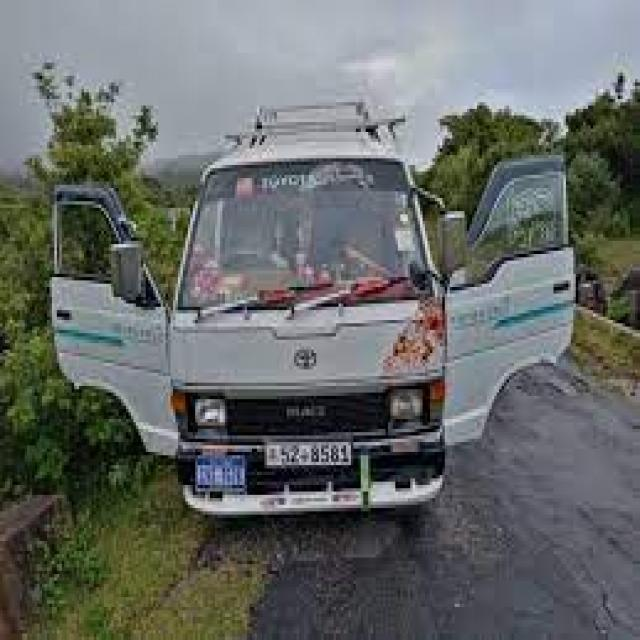van: (49, 102, 573, 515)
